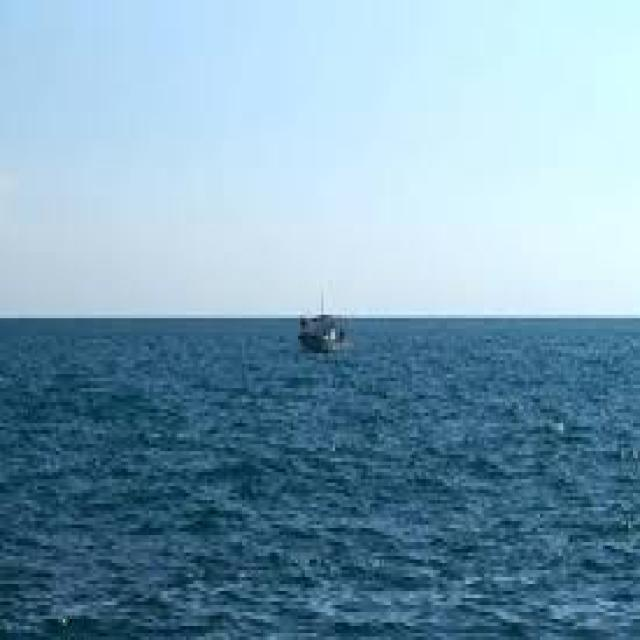fishing boat: (300, 300, 350, 358)
